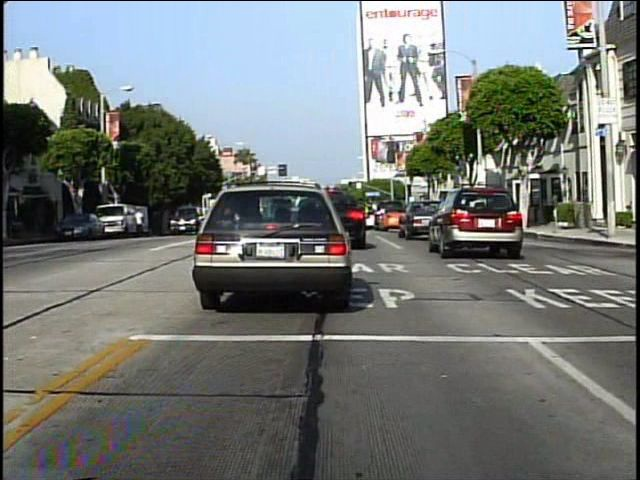person: (133, 205, 146, 240)
